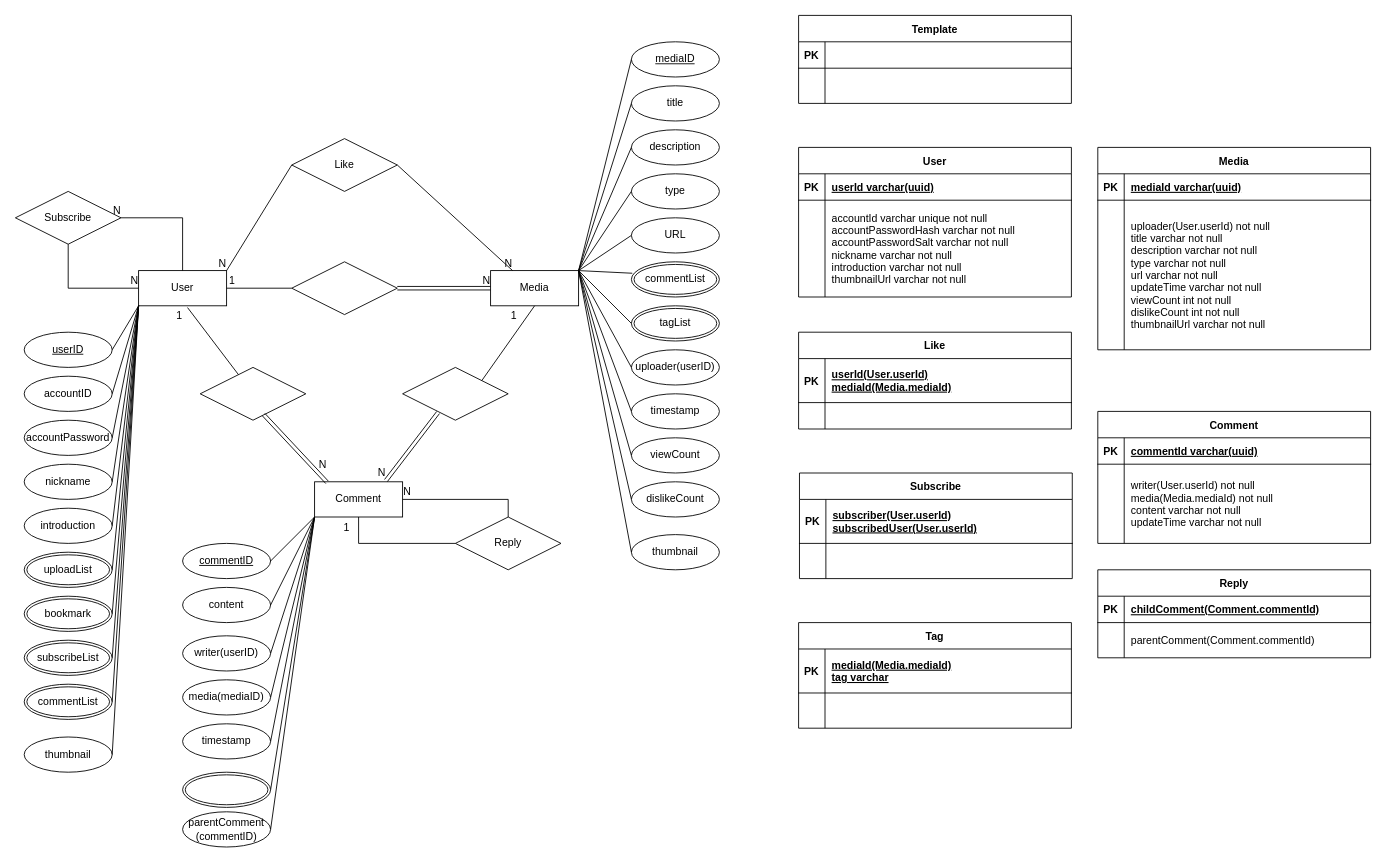
Some shapes in this 1386 by 862 pixel diagram are drawn without their labels. Here are the shapes that lost their labels. From the top down, the centre of each, then its label:
At (344,288): "Upload".
At (252,393): "UserComment".
At (455,393): "MediaComment".
At (226,789): "replyList".
